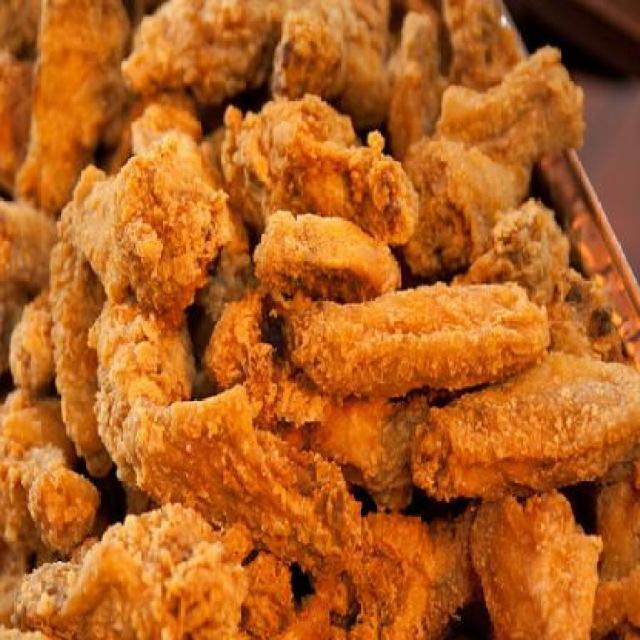Deep fried chicken wing: (22, 14, 622, 626)
